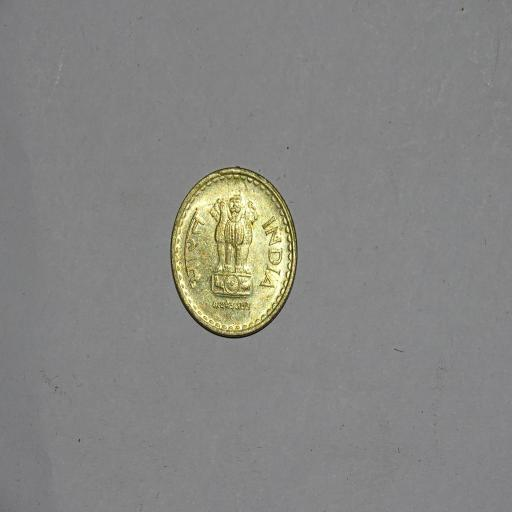rupee5: (165, 166, 302, 345)
